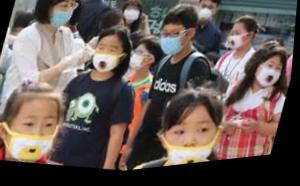OK: (92, 43, 128, 79), (159, 28, 194, 63), (43, 1, 79, 33), (257, 62, 286, 94), (130, 47, 157, 78), (229, 30, 255, 57), (195, 4, 219, 26), (123, 4, 144, 27)
WRONG: (8, 106, 64, 169), (163, 118, 224, 171)
